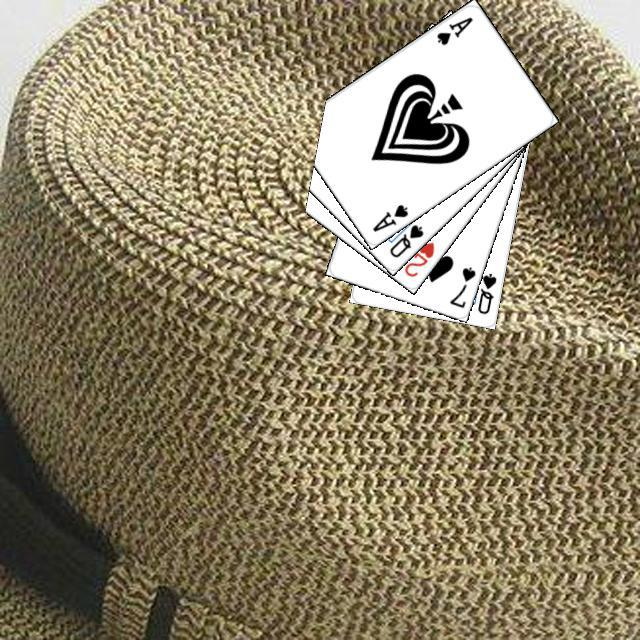2h: (399, 237, 436, 279)
7s: (445, 262, 477, 310)
As: (431, 12, 475, 47), (367, 199, 410, 234)
Qs: (385, 219, 425, 259), (473, 269, 498, 316)
